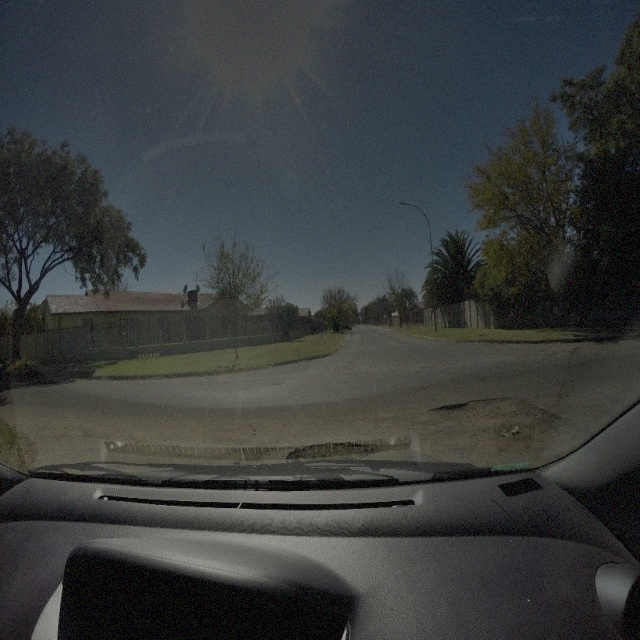pothole: (431, 392, 568, 441), (290, 433, 376, 458)
